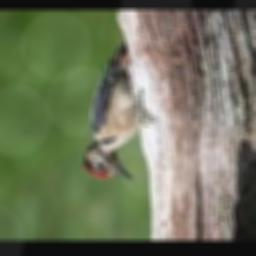Woodpecker: (84, 42, 141, 179)
